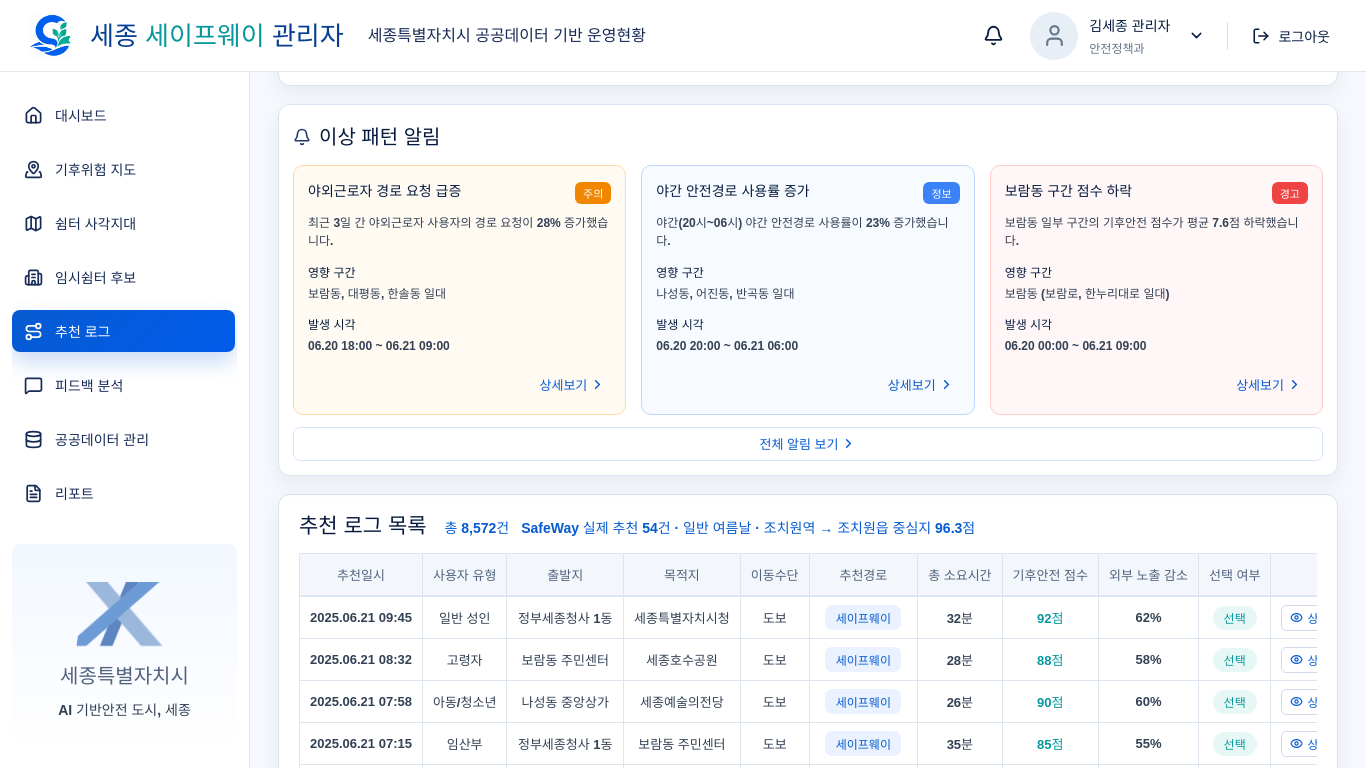
it: AdminRecommendationLogPage › shows demo feedback for alert detail actions
(page scrolled)
Click the button "상세보기" below "06.20 18:00 ~ 06.21 09:00": (563, 386) [308, 368, 611, 402]
(page scrolled)
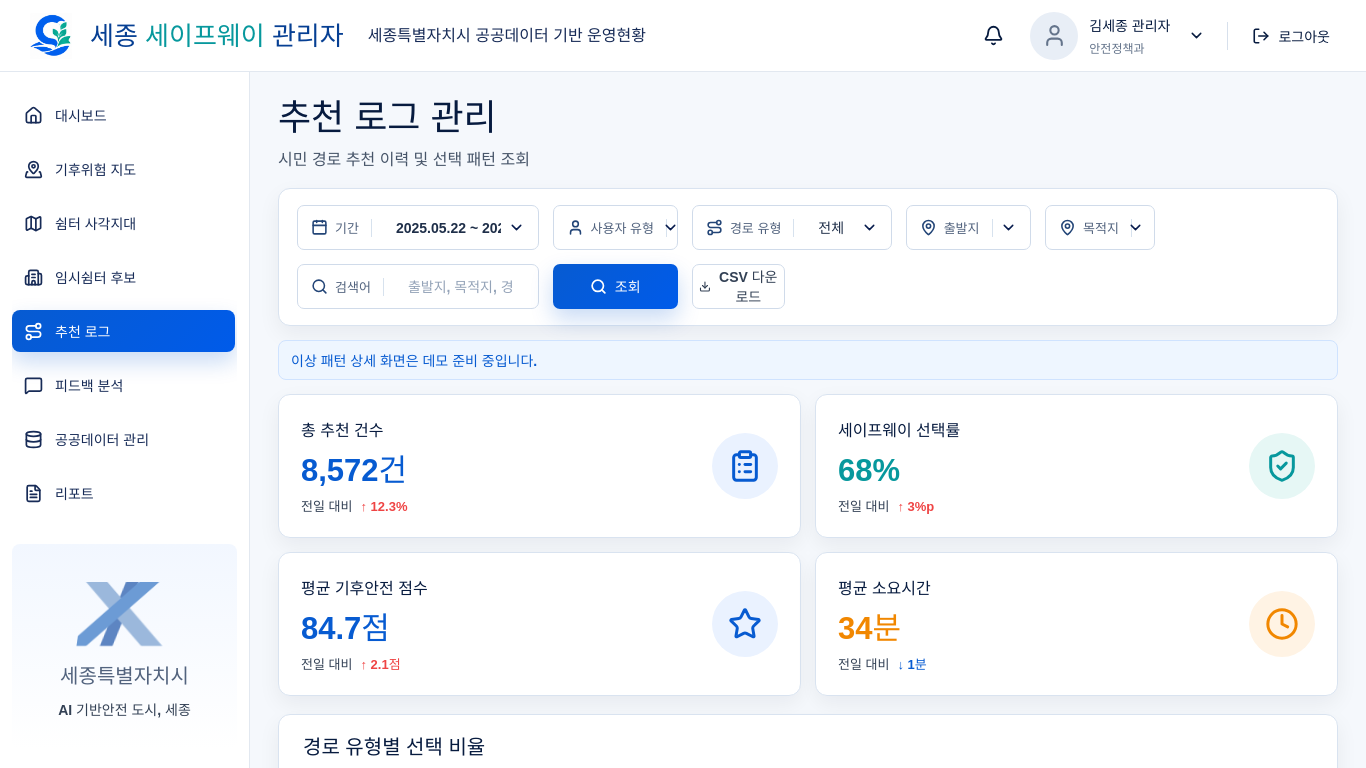
expect the message reads "이상 패턴 상세 화면은 데모 준비 중입니다.": met, box [291, 353, 537, 369]
